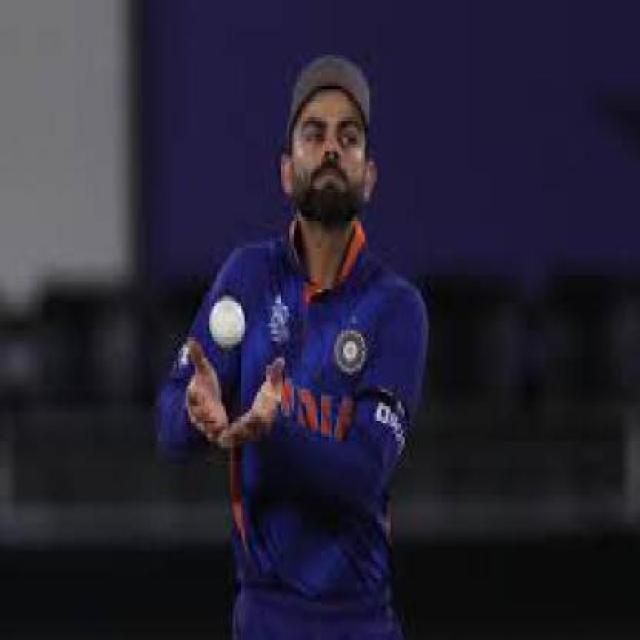ball: (190, 280, 260, 362)
